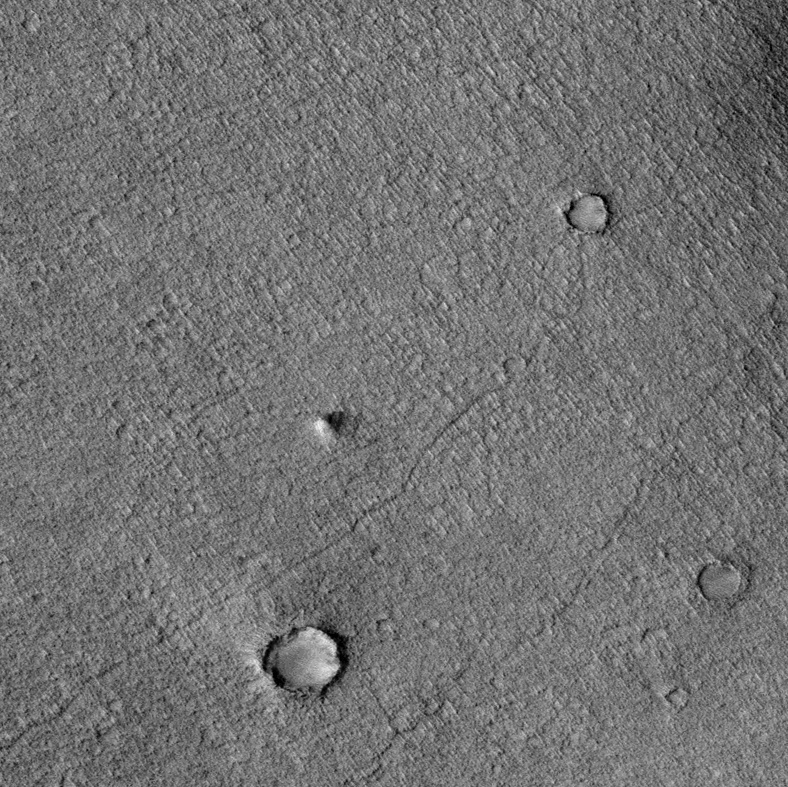dust_devil: (311, 409, 359, 442)
